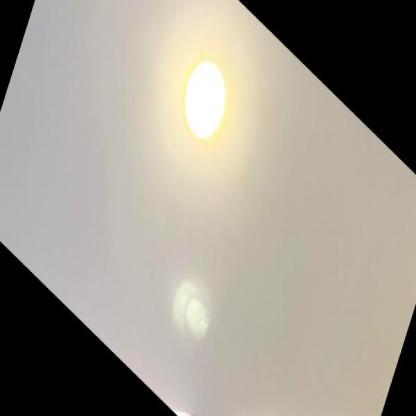light_on: (210, 327, 371, 415), (164, 25, 250, 168), (171, 390, 209, 415)
